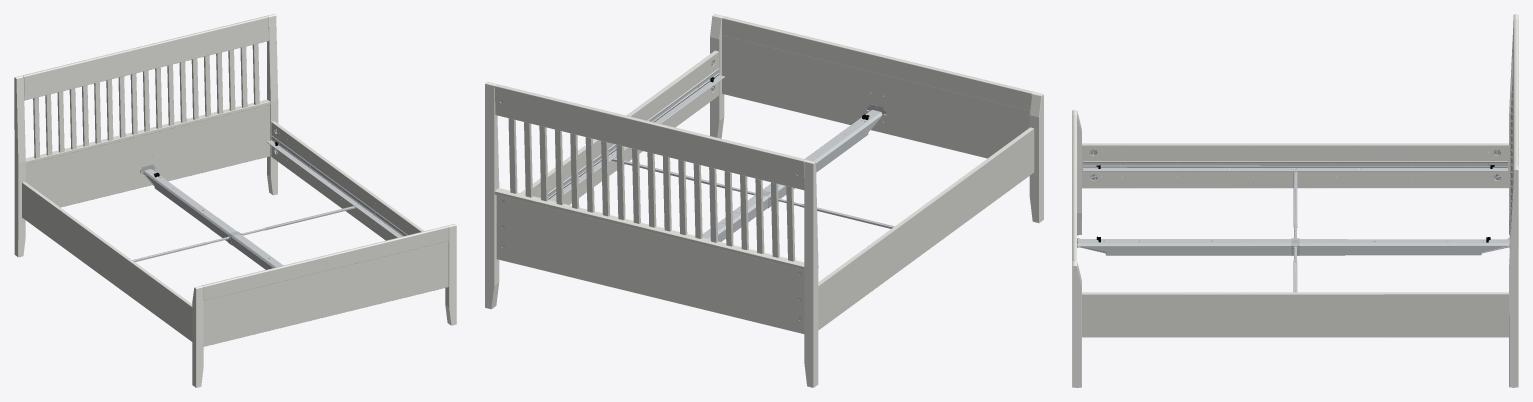
File: idanas_rama_ozka_40458898.glb
3 renders of one model, left to right at view 1: azimuth 30°, elevation 25°; view 2: azimuth 150°, elevation 25°; view 3: azimuth 270°, elevation 25°, orthographic. The views are drawn at different scales.
Visible parts, largest first — view 1: idanas_rama_ozka_40458898; view 2: idanas_rama_ozka_40458898; view 3: idanas_rama_ozka_40458898.
Boxes of the visible parts, left/top/right/bottom form: idanas_rama_ozka_40458898: left=14, top=14, right=456, bottom=387; idanas_rama_ozka_40458898: left=485, top=14, right=1043, bottom=387; idanas_rama_ozka_40458898: left=1072, top=14, right=1518, bottom=387.
Bounding box in the file's own units: 1.71 × 1.12 × 2.07.
1 material, 1 textured.
